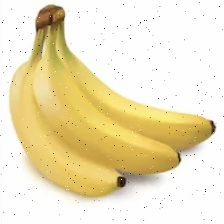banana: (26, 59, 168, 206)
